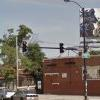Traffic light: (18, 35, 71, 60)
